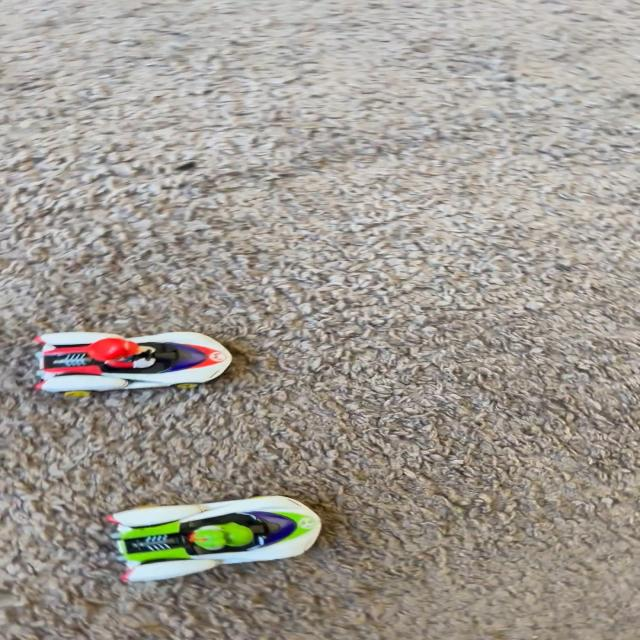mario: (22, 310, 250, 406)
yoshi: (92, 464, 343, 600)
